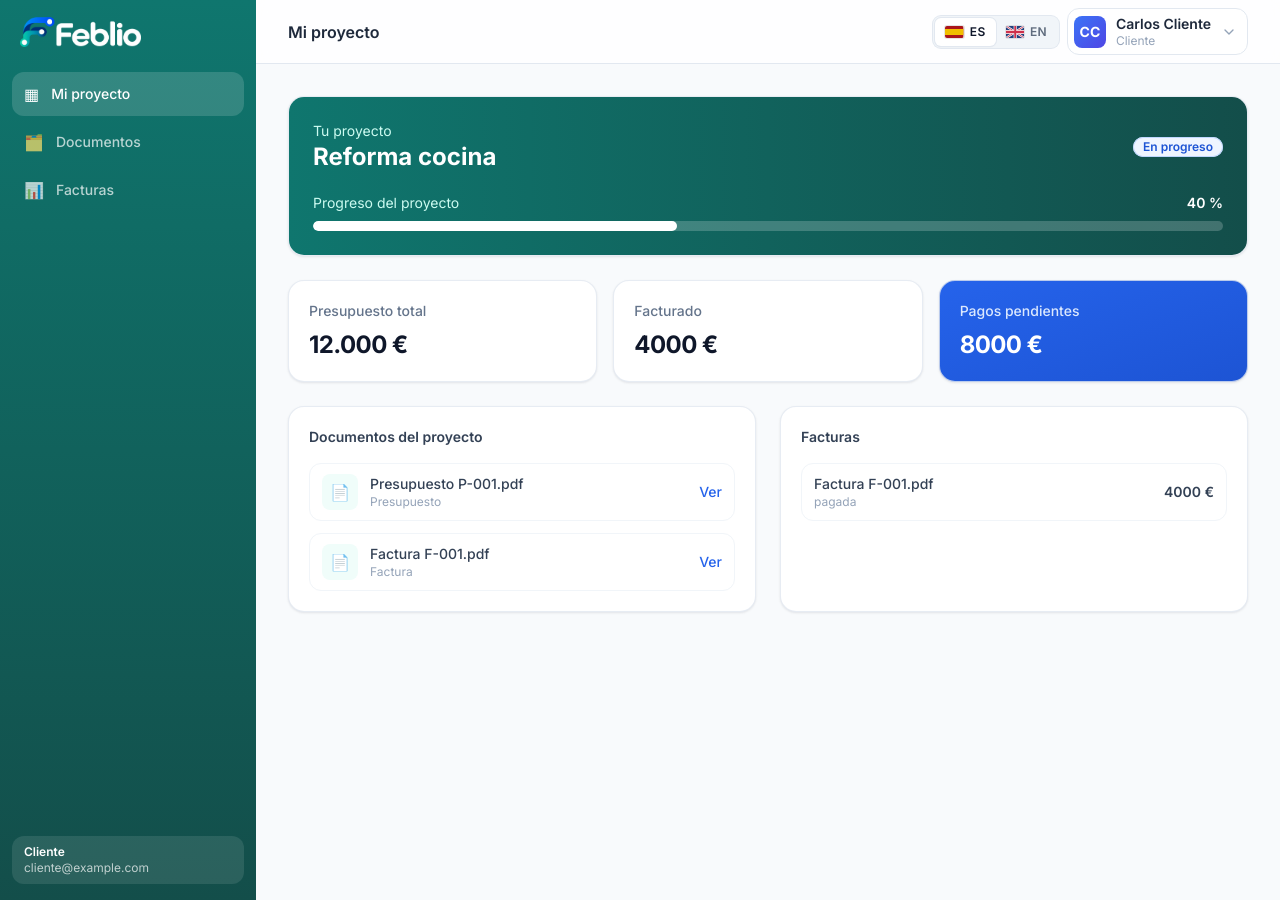
Test case: <ClienteDashboard /> › the language switcher changes the dashboard language without reloading
Expected: the text "Tu proyecto" is shown, [313,122,392,139]
What coordinates should you click on to do the following:
click the button with aria-label "English"
I would click on:
 (1026, 32)
Its box is [996,18,1057,46].
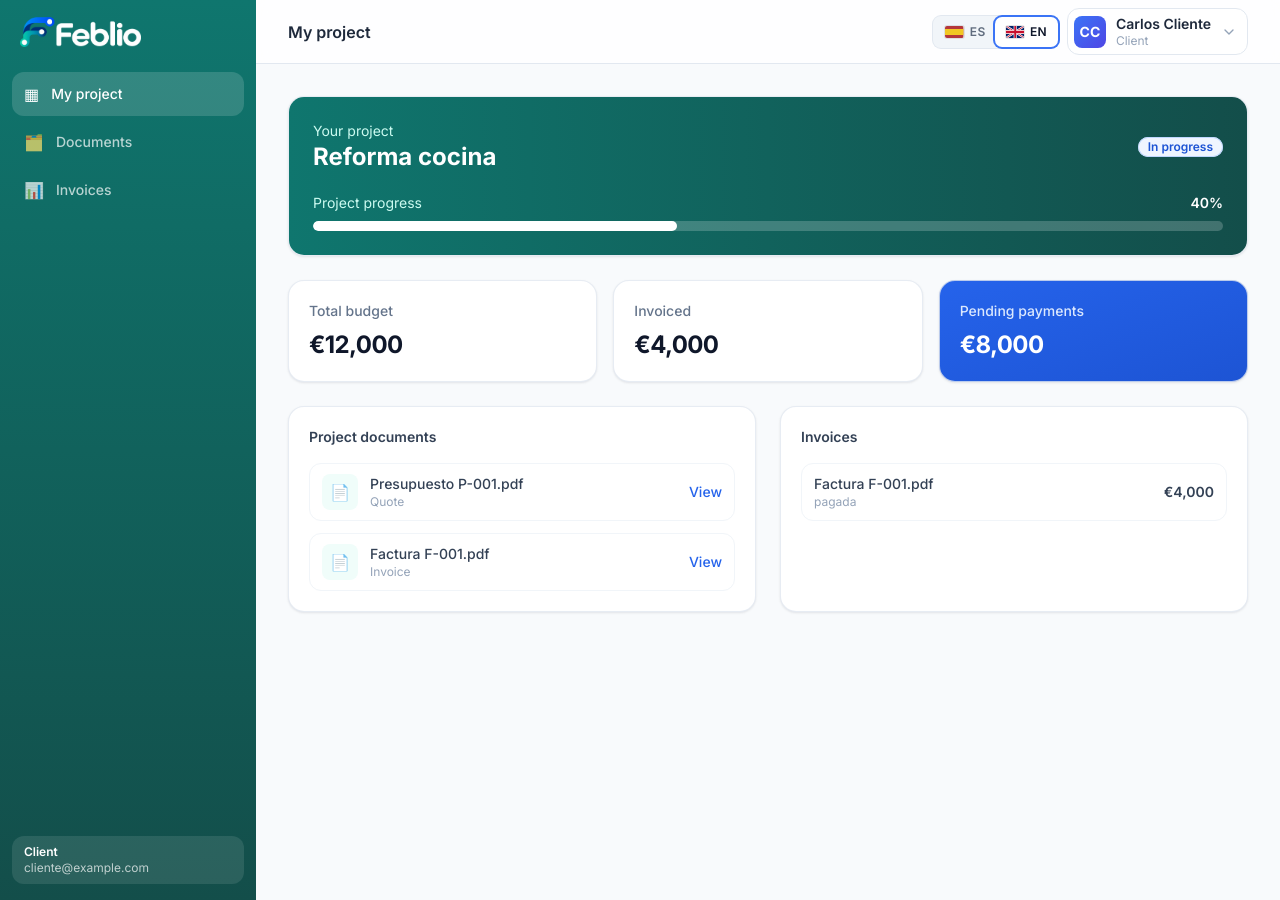
Now the text "Your project" is shown, box [313,122,394,139]
Now the heading "My project" is shown, box [288,20,371,44]
